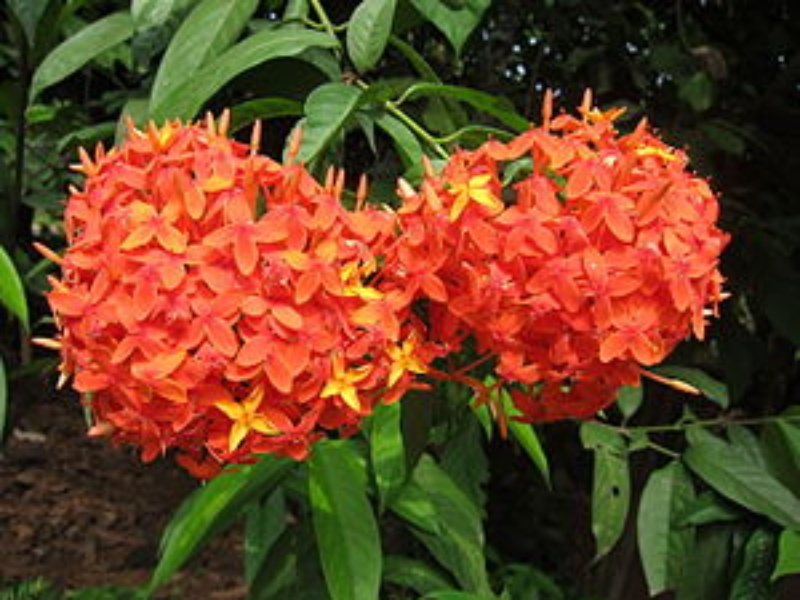Ixora: (40, 89, 430, 489), (391, 80, 742, 438)
